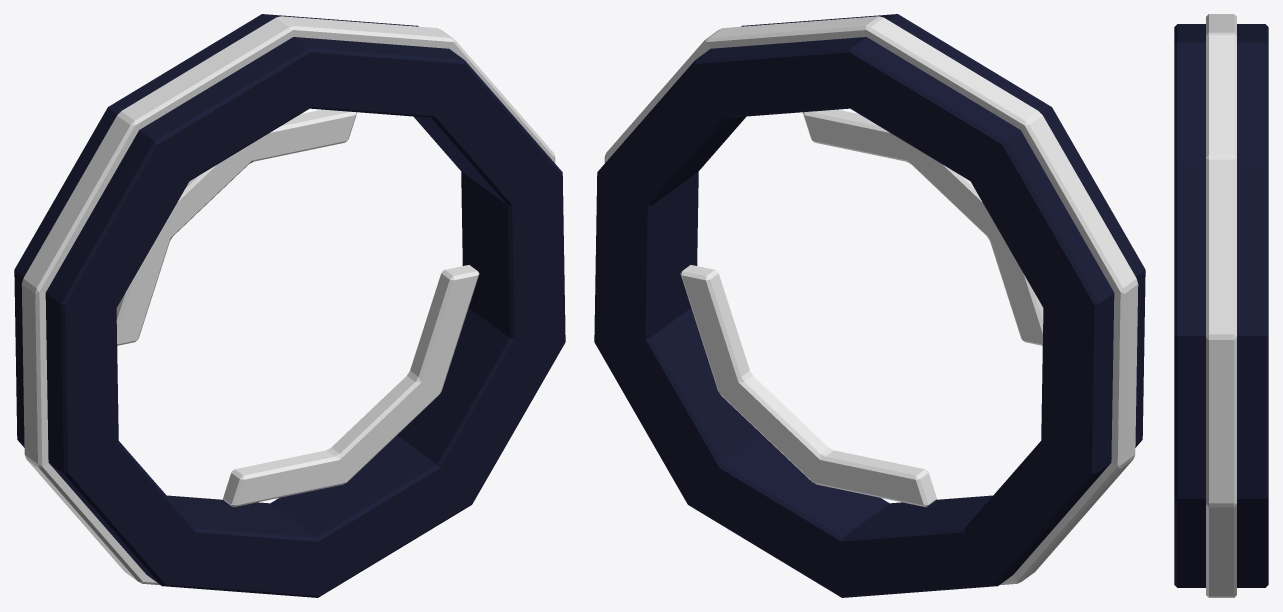
File: Portal.fbx
3 views of the same model, side by side, from view 1: azimuth 30°, elevation 25°; view 2: azimuth 150°, elevation 25°; view 3: azimuth 270°, elevation 25° (orthographic). The views are drawn at different scales.
Parts seen in each view (by area): view 1: OutterFrame, Inner, OutterGlow; view 2: OutterFrame, Inner, OutterGlow; view 3: OutterFrame, OutterGlow.
Boxes of the visible parts, bbox=[...] form: OutterFrame: bbox=[14, 14, 565, 597]; Inner: bbox=[116, 109, 479, 507]; OutterGlow: bbox=[21, 16, 555, 585]; OutterFrame: bbox=[594, 14, 1145, 597]; Inner: bbox=[680, 109, 1043, 507]; OutterGlow: bbox=[604, 16, 1138, 585]; OutterFrame: bbox=[1174, 24, 1268, 587]; OutterGlow: bbox=[1206, 14, 1236, 597].
Bounding box in the file's own units: 190 × 198 × 31.39.
